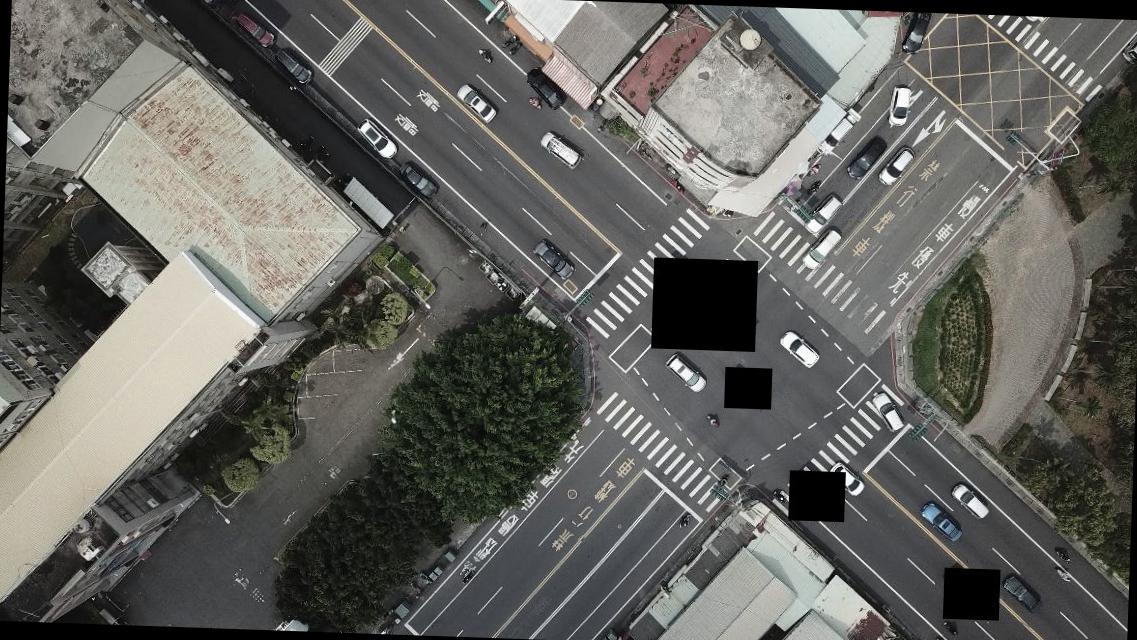vehicle: (816, 107, 860, 156), (523, 64, 567, 110), (845, 135, 888, 181), (354, 116, 398, 160), (801, 190, 843, 236), (918, 500, 964, 542), (799, 227, 843, 270), (664, 351, 709, 393), (538, 128, 582, 170), (532, 239, 576, 280), (272, 44, 314, 86), (1000, 572, 1044, 612), (398, 159, 440, 200), (777, 328, 820, 368), (453, 83, 497, 122), (877, 144, 915, 186), (234, 12, 276, 48), (870, 391, 905, 432), (827, 460, 866, 496), (951, 482, 990, 518), (900, 12, 932, 54), (887, 84, 910, 127)
